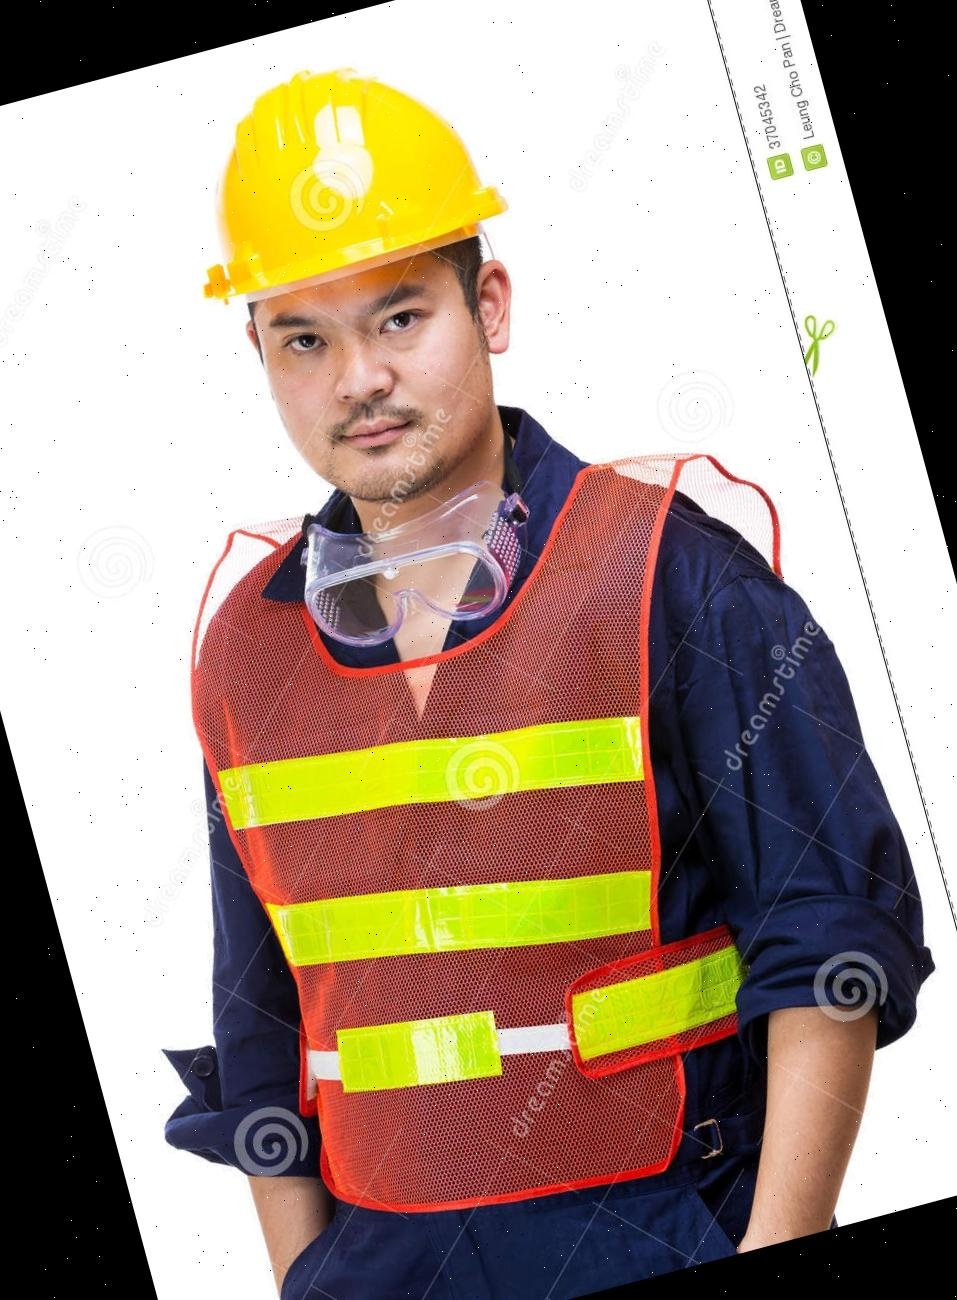helmet: (147, 24, 519, 325)
wear: (116, 413, 903, 1277)
